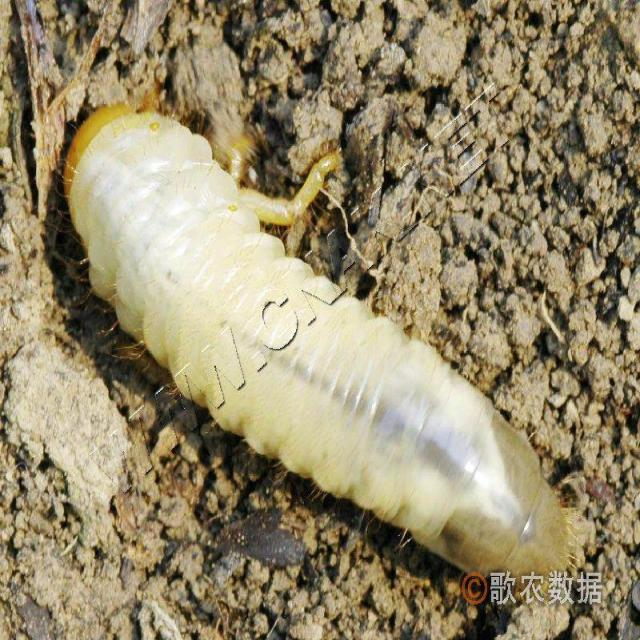grub: (59, 96, 611, 591)
